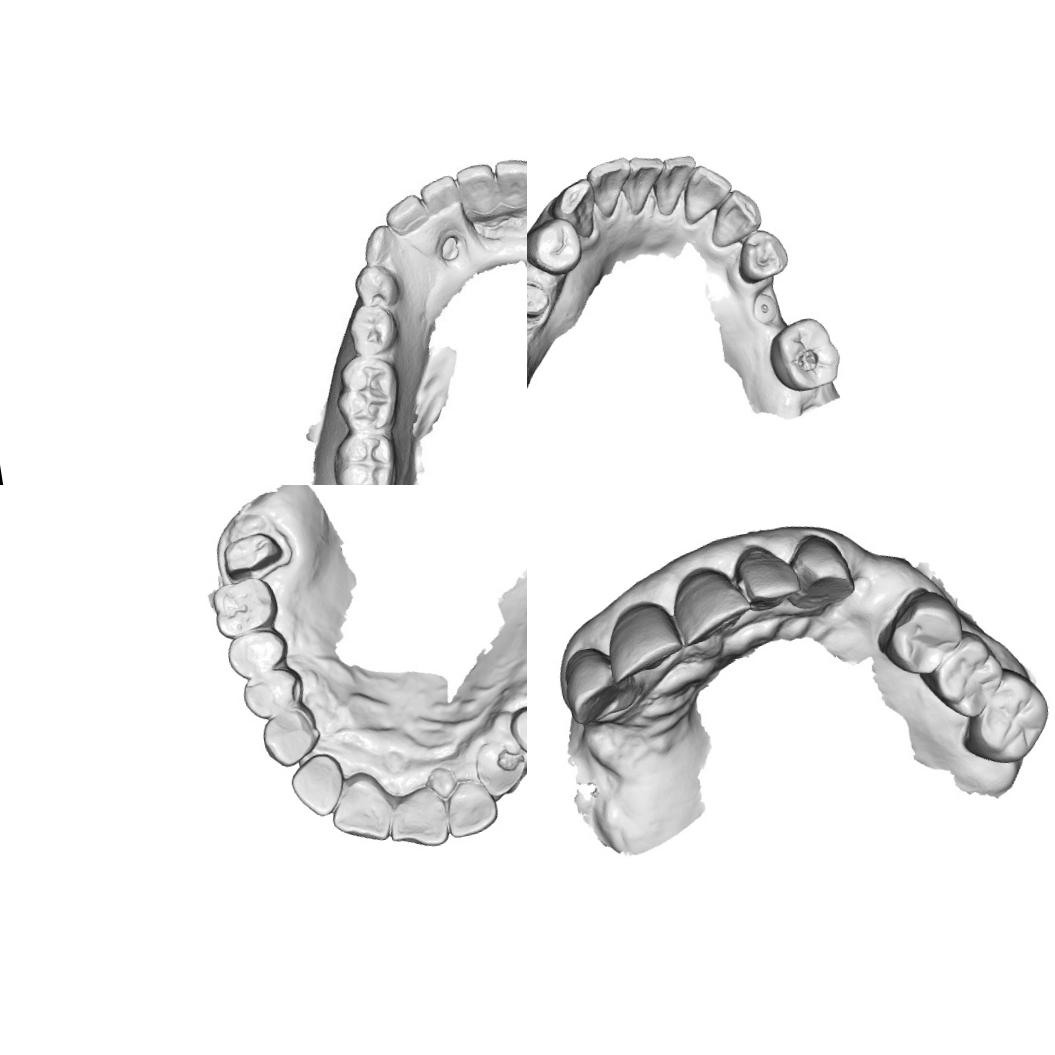canine: (782, 528, 859, 616), (702, 183, 768, 250), (256, 706, 324, 770), (546, 175, 602, 245), (470, 736, 527, 800), (362, 222, 418, 280)
crown: (216, 524, 294, 584), (527, 275, 554, 324)
implant: (746, 290, 782, 327)
incisor: (602, 595, 690, 686), (668, 561, 754, 649), (555, 644, 628, 730), (324, 767, 398, 848), (732, 536, 800, 612), (382, 782, 452, 854), (452, 157, 512, 240), (674, 158, 740, 228), (286, 750, 350, 820), (417, 172, 472, 246), (442, 774, 502, 840), (649, 150, 705, 220), (618, 150, 673, 221), (584, 154, 640, 222), (384, 189, 440, 254), (491, 151, 527, 227)
molar: (878, 582, 974, 684), (762, 311, 848, 398), (327, 348, 405, 437), (977, 673, 1055, 757), (929, 634, 1006, 717), (209, 573, 282, 640), (328, 424, 408, 485)
premolar: (238, 663, 308, 722), (730, 224, 794, 288), (527, 212, 588, 279), (341, 298, 403, 362), (224, 626, 292, 682), (346, 258, 399, 314), (506, 699, 527, 766)
